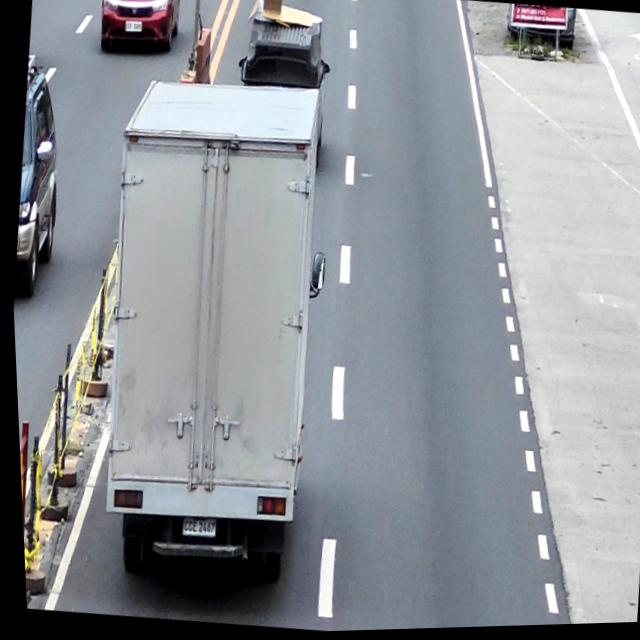Car: (3, 58, 75, 302), (95, 0, 183, 58)
License-Plate: (175, 516, 212, 540), (123, 20, 142, 33)
Truck: (76, 71, 352, 591)
